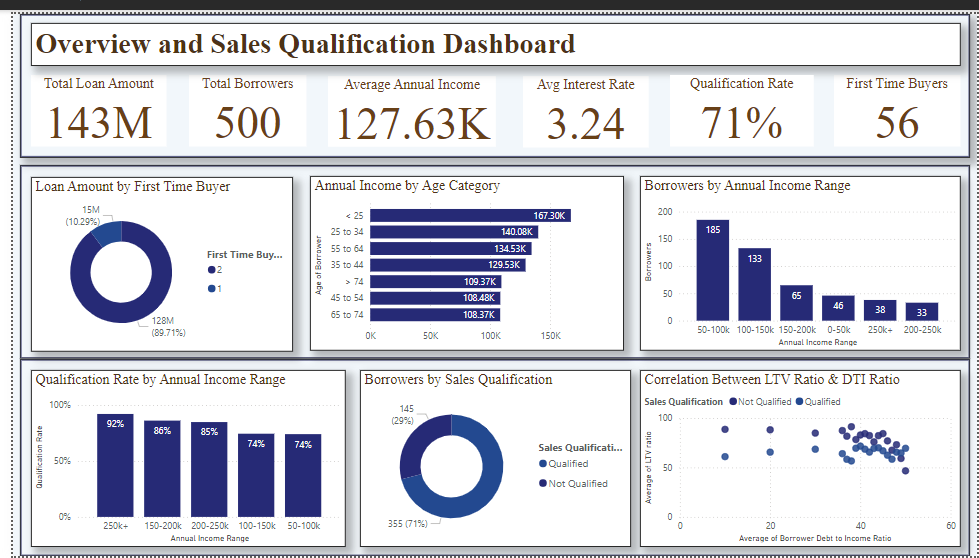

The dashboard page shown, as its layout file describes it:
{"tool":"powerbi","page":{"name":"Overview & Sales Qualification Dashboard","canvas":[1280,720],"ordinal":1},"visuals":[{"type":"shape","box":[8.9,458.4,1262.1,262],"z":1000},{"type":"shape","box":[8.9,200.9,1262.1,257.5],"z":2000},{"type":"shape","box":[8.9,0,1262.1,190.5],"z":3000},{"type":"clusteredBarChart","title":"Annual Income by Age Category","fields":{"Category":["Added Formulas and columns.Age of Borrower"],"Y":["Avg(Added Formulas and columns.Borrower Annual Income)"]},"box":[394.4,215.8,416.7,232.2],"z":4000},{"type":"card","title":"Average Annual Income","fields":{"Values":["Avg(Added Formulas and columns.Borrower Annual Income)"]},"box":[418.2,81.9,223.3,93.8],"z":5000},{"type":"card","title":"Total Borrowers","fields":{"Values":["CountNonNull(Added Formulas and columns.Borrower ID Number)"]},"box":[233.7,80.4,156.3,95.3],"z":6000},{"type":"card","title":"Total Loan Amount","fields":{"Values":["Added Formulas and columns.TotalLoanAmount"]},"box":[23.8,80.4,180.1,95.3],"z":7000},{"type":"card","title":"Avg Interest Rate","fields":{"Values":["Added Formulas and columns.AvgInterestRate"]},"box":[677.2,81.9,166.7,95.3],"z":8000},{"type":"card","title":"First Time Buyers","fields":{"Values":["Added Formulas and columns.FirstTimeBuyers"]},"box":[1091,80.4,168.2,95.3],"z":9000},{"type":"textbox","box":[23.3,12.5,1235.2,57.4],"z":10000},{"type":"donutChart","title":"Loan Amount by First Time Buyer","fields":{"Category":["Added Formulas and columns.First Time Buyer? (1=Yes, 2=No)"],"Y":["Added Formulas and columns.TotalLoanAmount"]},"box":[24.3,216,347.5,231.7],"z":11000},{"type":"card","title":"Qualification Rate","fields":{"Values":["Added Formulas and columns.Qualification Rate"]},"box":[872.2,80.4,190.5,95.3],"z":12000},{"type":"clusteredColumnChart","title":"Borrowers by Annual Income Range","fields":{"Y":["CountNonNull(Added Formulas and columns.Borrower ID Number)"],"Category":["Added Formulas and columns.Annual Income Range"]},"box":[833.5,215.8,425.7,232.2],"z":13000},{"type":"clusteredColumnChart","fields":{"Y":["Added Formulas and columns.Qualification Rate"],"Category":["Added Formulas and columns.Annual Income Range"]},"box":[23.8,473.3,418.2,235.2],"z":14000},{"type":"donutChart","title":"Borrowers  by Sales Qualification","fields":{"Category":["Added Formulas and columns.Sales Qualification"],"Y":["CountNonNull(Added Formulas and columns.Borrower ID Number)"]},"box":[461.4,473.3,360.2,235.2],"z":15000},{"type":"scatterChart","title":"Correlation Between LTV Ratio & DTI Ratio","fields":{"Y":["Avg(Added Formulas and columns.LTV ratio)"],"Category":["Added Formulas and columns.Borrower Debt to Income Ratio","Added Formulas and columns.LTV ratio"],"X":["Avg(Added Formulas and columns.Borrower Debt to Income Ratio)"],"Series":["Added Formulas and columns.Sales Qualification"]},"box":[833.5,473.3,425.7,235.2],"z":16000}]}

Visuals, with their boxes in screenshot pixels (x1, y1, x2, y2), scaled from the page's 1280x720 canvas onto the 979x558 screenshot:
shape: [7, 355, 972, 557]
shape: [7, 156, 972, 355]
shape: [7, 0, 972, 148]
"Annual Income by Age Category" clusteredBarChart: [302, 167, 620, 347]
"Average Annual Income" card: [320, 63, 491, 136]
"Total Borrowers" card: [179, 62, 298, 136]
"Total Loan Amount" card: [18, 62, 156, 136]
"Avg Interest Rate" card: [518, 63, 645, 137]
"First Time Buyers" card: [834, 62, 963, 136]
textbox: [18, 10, 963, 54]
"Loan Amount by First Time Buyer" donutChart: [19, 167, 284, 347]
"Qualification Rate" card: [667, 62, 813, 136]
"Borrowers by Annual Income Range" clusteredColumnChart: [637, 167, 963, 347]
clusteredColumnChart - Added Formulas and columns.Qualification Rate x Added Formulas and columns.Annual Income Range: [18, 367, 338, 549]
"Borrowers  by Sales Qualification" donutChart: [353, 367, 628, 549]
"Correlation Between LTV Ratio & DTI Ratio" scatterChart: [637, 367, 963, 549]
